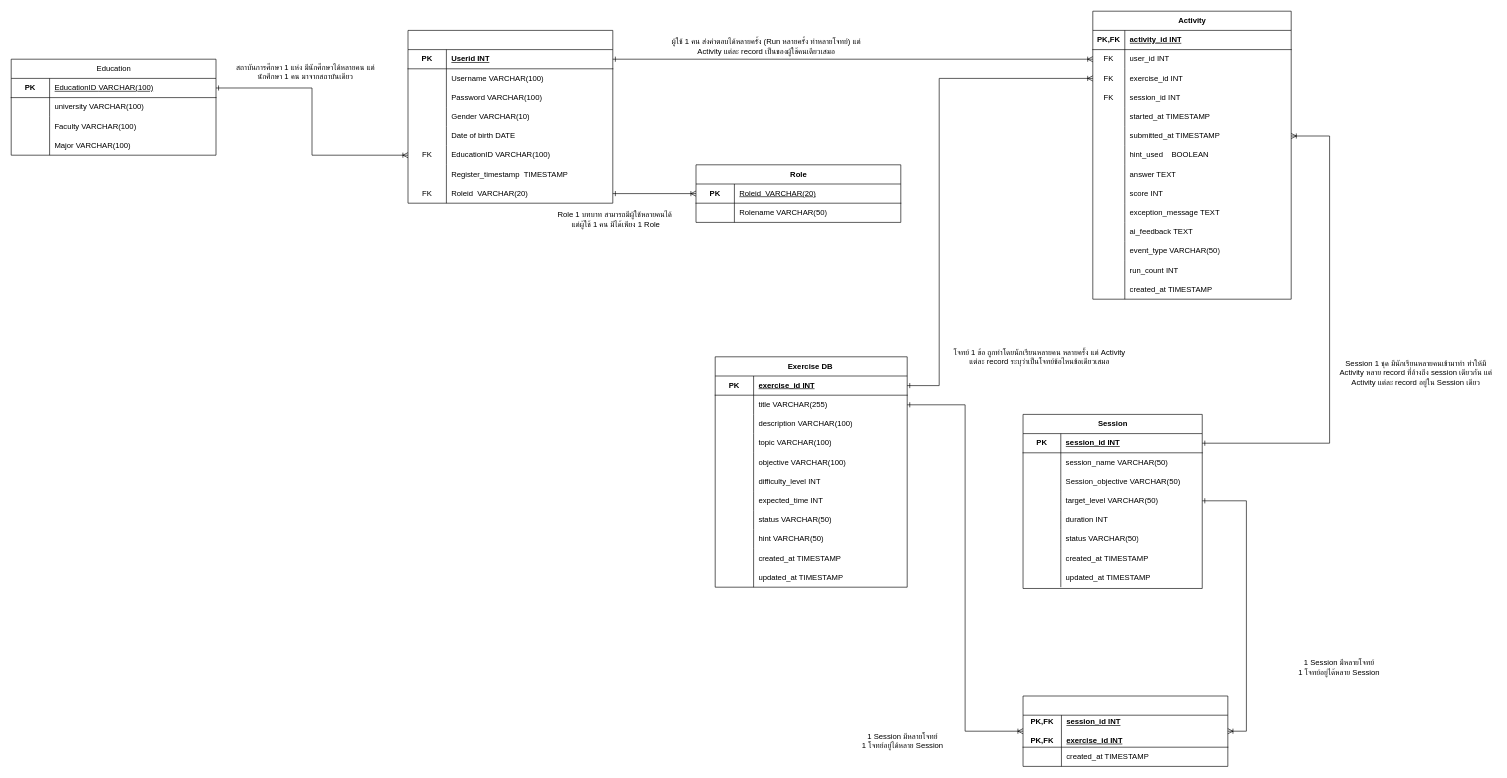
The diagram is 1507 pixels wide and 778 high, and some of its shapes have lost their labels. The shapes that lost their labels are listed below. From the top down, each one's box as (x1, y1, x2, y2) in pixels, then its label:
(407, 30, 613, 203): Userprofile
(1022, 695, 1228, 766): Session_Exercise
